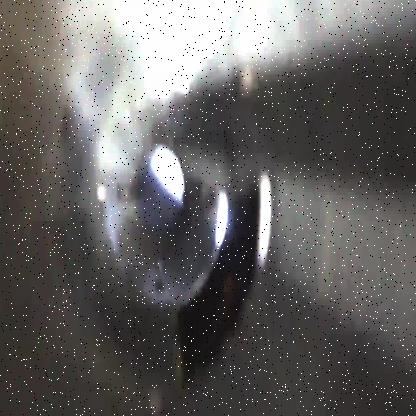Crack2: (172, 185, 276, 393)
